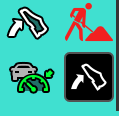ACCELERATOR: (5, 2, 54, 45)
ACCELERATOR_R: (63, 51, 114, 103)
ACC_OVER: (4, 54, 57, 96)
CONSTRUCTION: (62, 1, 115, 45)
